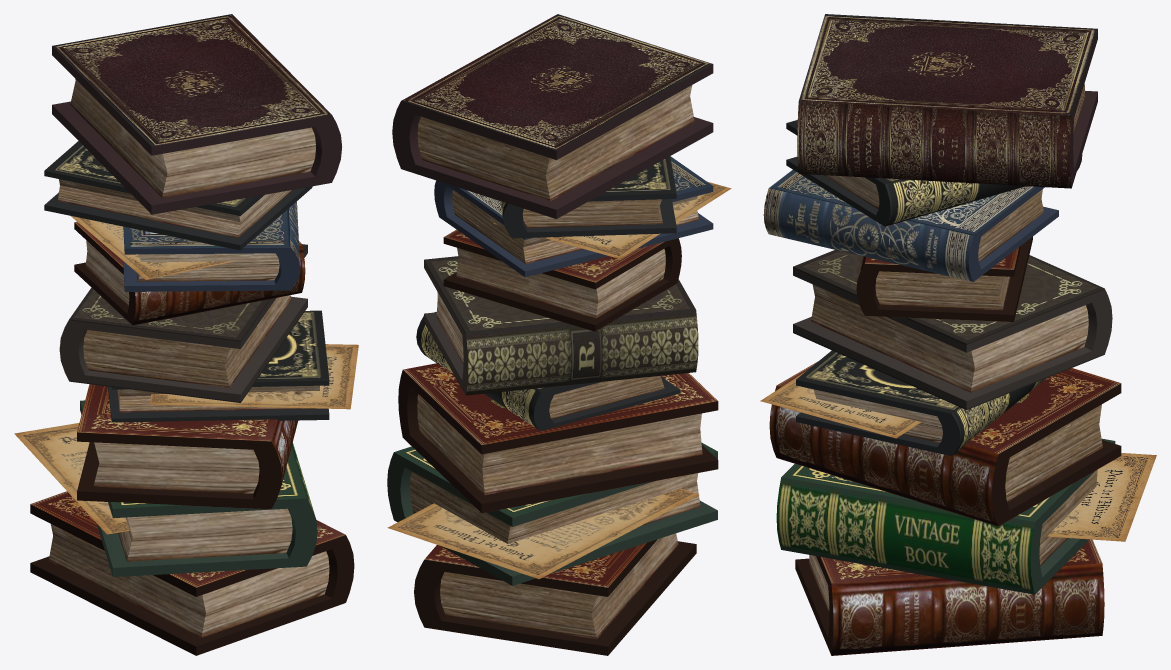
File: Book_Stack.fbx
3 views of the same model, side by side, from view 1: azimuth 30°, elevation 25°; view 2: azimuth 150°, elevation 25°; view 3: azimuth 270°, elevation 25° (orthographic). The views are drawn at different scales.
Parts seen in each view (by area): view 1: Book_Stack; view 2: Book_Stack; view 3: Book_Stack.
Part boxes in pixels (x1,y1,x2,y2): Book_Stack: (14,14,358,655); Book_Stack: (387,14,731,655); Book_Stack: (760,14,1156,655).
Bounding box in the file's own units: 82.85 × 143 × 95.39.
